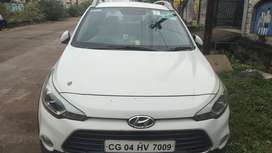CG04HV7009: (104, 140, 175, 153)
